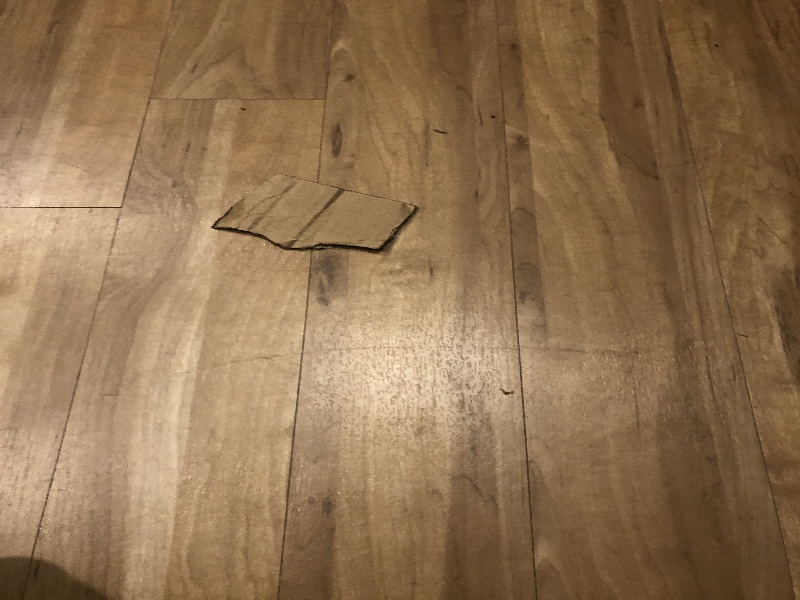cardboard: (209, 171, 419, 259)
